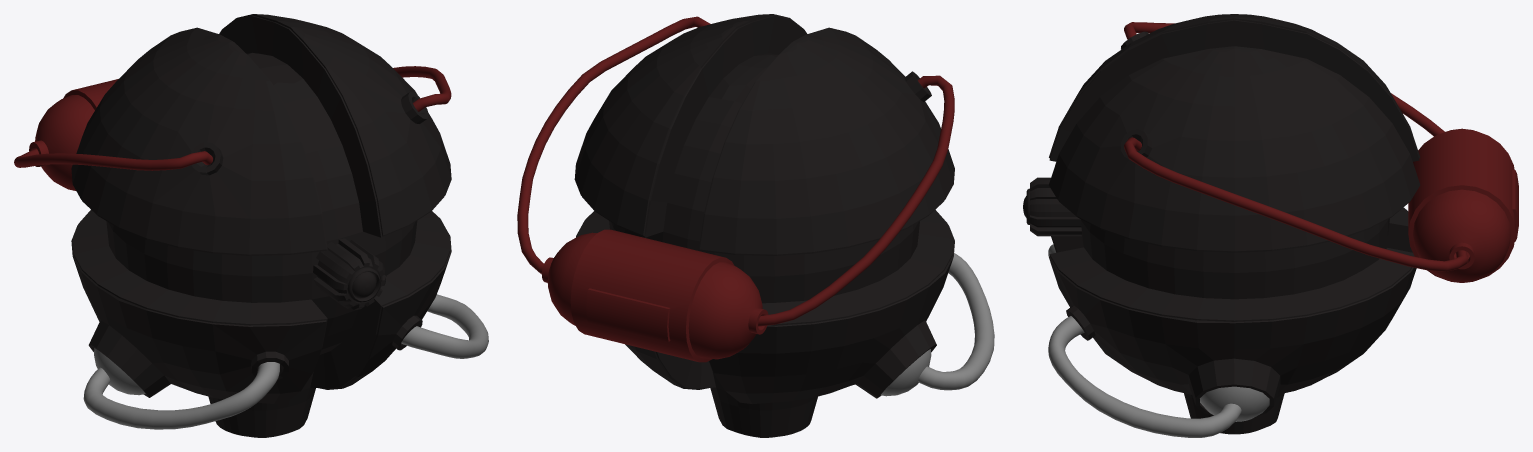
Rendered from Enemigo fly.fbx.
3 views of the same model, side by side, from view 1: azimuth 30°, elevation 25°; view 2: azimuth 150°, elevation 25°; view 3: azimuth 270°, elevation 25° (orthographic).
Parts seen in each view (by area): view 1: enemy, tubo (×4), bombona, eye, sphera; view 2: enemy, bombona, tubo (×3), sphera; view 3: enemy, bombona, tubo (×3), eye, sphera.
Part boxes in pixels (x1=…): enemy: x1=71, y1=14, x2=451, y2=437; tubo (×4): x1=14, y1=66, x2=488, y2=429; bombona: x1=29, y1=79, x2=118, y2=190; eye: x1=313, y1=238, x2=386, y2=309; sphera: x1=94, y1=348, x2=145, y2=395; enemy: x1=574, y1=14, x2=954, y2=437; bombona: x1=541, y1=229, x2=768, y2=362; tubo (×3): x1=517, y1=16, x2=994, y2=390; sphera: x1=881, y1=349, x2=931, y2=396; enemy: x1=1049, y1=14, x2=1420, y2=434; bombona: x1=1408, y1=128, x2=1518, y2=282; tubo (×3): x1=1048, y1=22, x2=1467, y2=437; eye: x1=1023, y1=177, x2=1081, y2=236; sphera: x1=1200, y1=386, x2=1269, y2=421.
Bounding box in the file's own units: 77.74 × 75.42 × 88.15.
